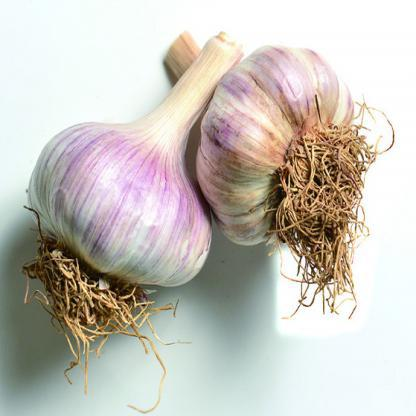garlic: (31, 25, 226, 324), (194, 32, 366, 254)
